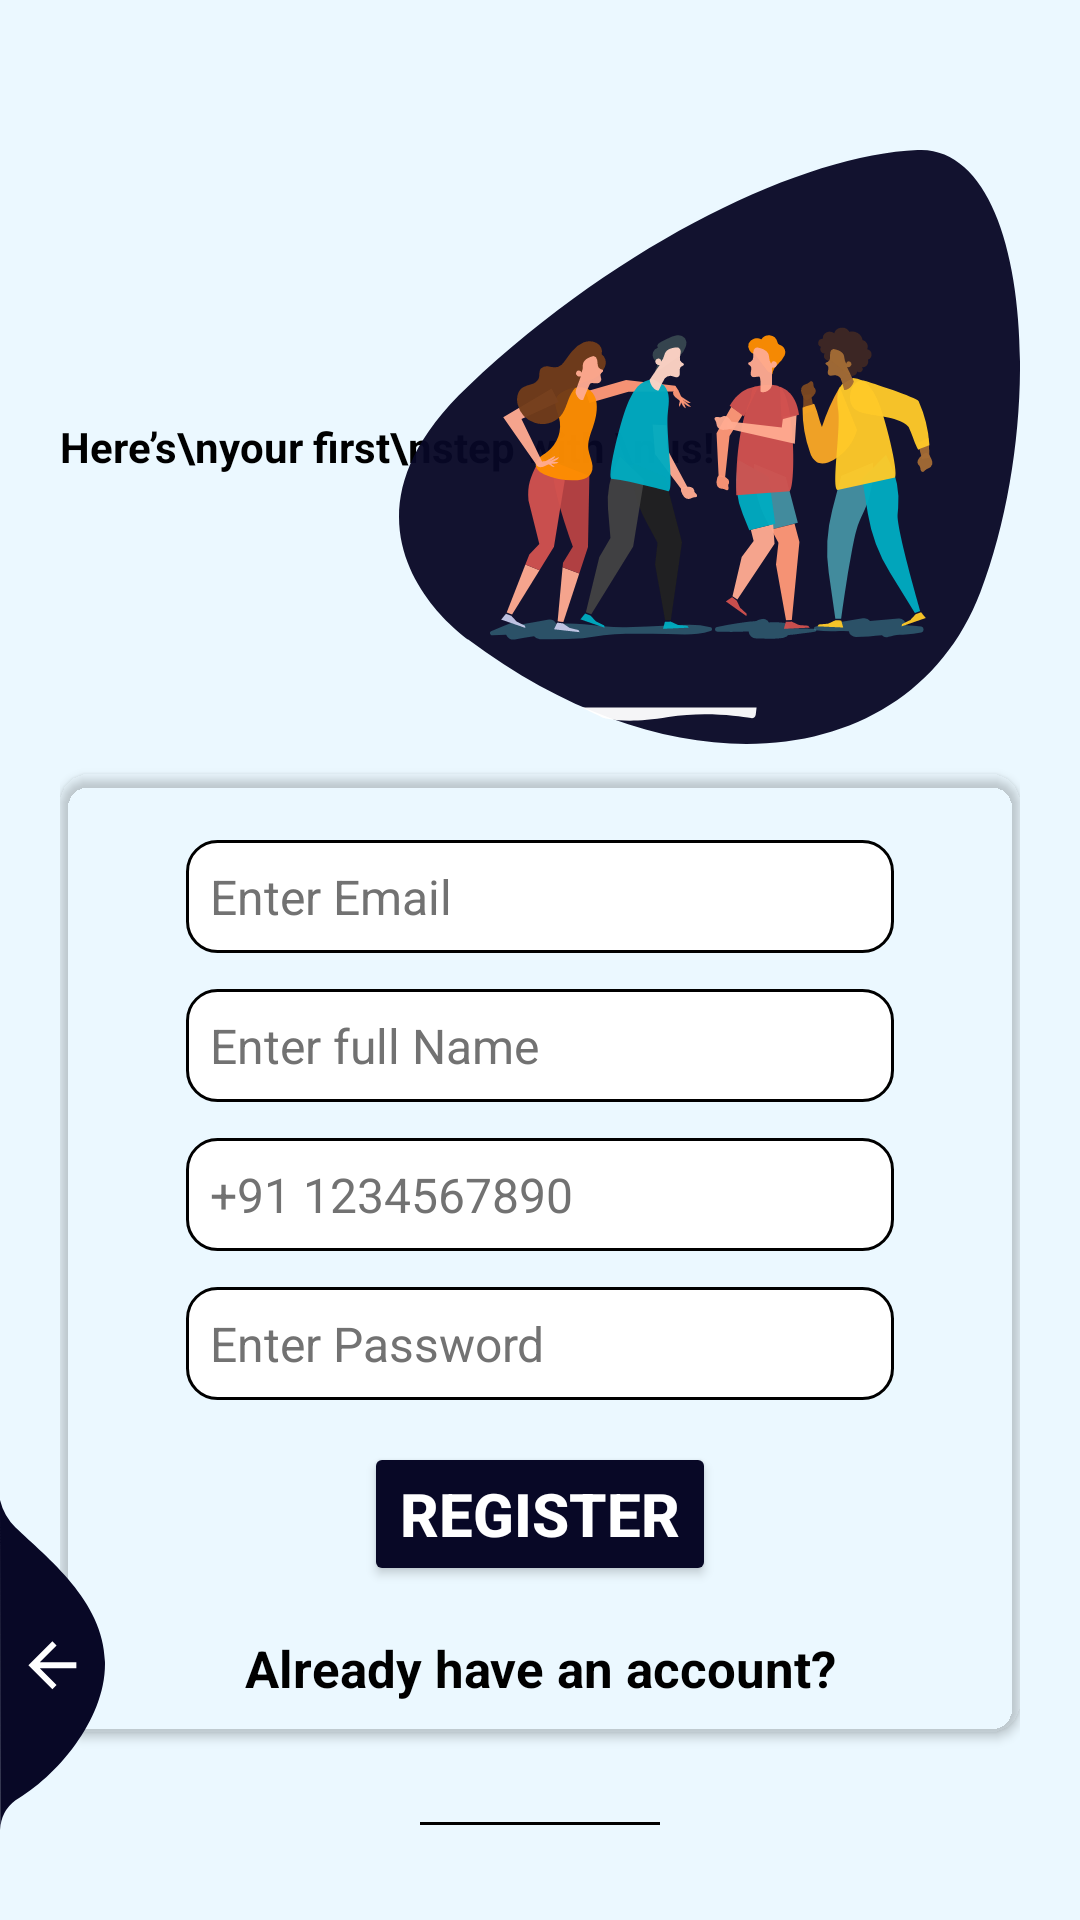

Screen size 1080x1920. Icon name, then its box in pixels as bbox=[x1, y1, x2, y2]:
back: bbox=[0, 1500, 105, 1829]
